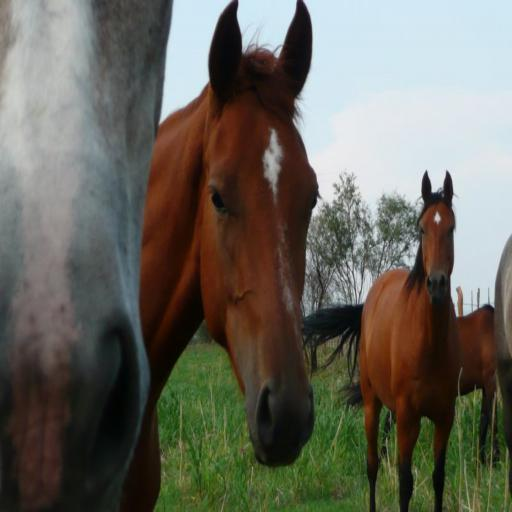horse: (118, 0, 324, 511), (0, 0, 177, 511), (300, 170, 462, 511), (335, 302, 502, 472)
